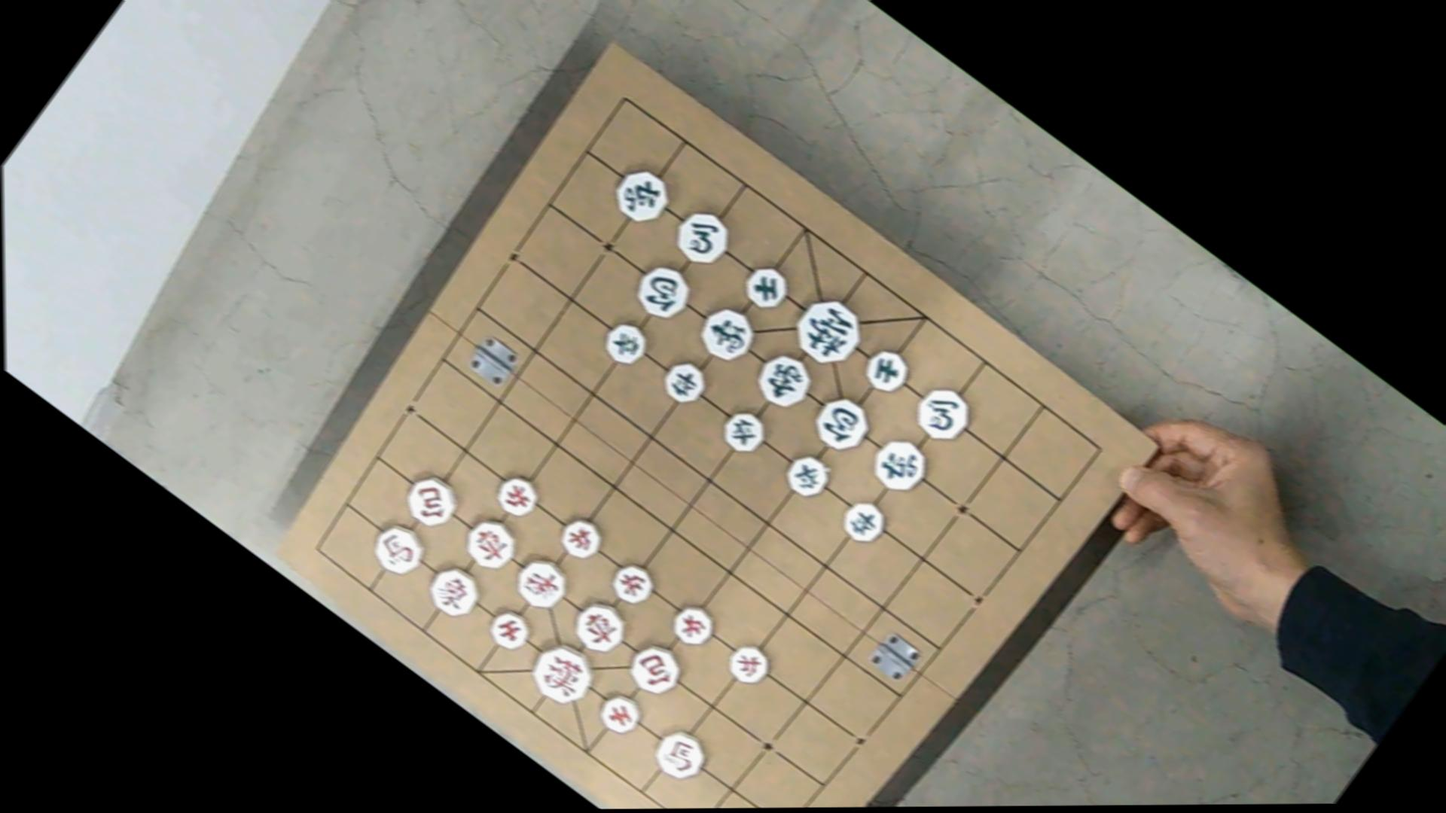cha_green: (865, 431, 935, 501), (609, 163, 678, 231)
cha_red: (458, 511, 524, 577), (567, 595, 633, 660)
jol_green: (836, 495, 892, 550), (597, 316, 653, 371), (657, 355, 712, 410), (780, 449, 835, 504), (716, 406, 771, 460)
jol_red: (490, 470, 545, 522), (722, 639, 776, 691), (606, 559, 660, 611), (555, 513, 609, 565), (667, 601, 719, 653)
ma_green: (908, 380, 977, 449), (669, 204, 737, 272)
ma_red: (648, 723, 713, 787), (366, 518, 432, 581)
po_green: (807, 389, 877, 460), (629, 258, 699, 327)
po_red: (398, 470, 465, 534), (623, 638, 689, 702)
sa_green: (738, 260, 795, 315), (858, 344, 914, 398)
sa_red: (592, 687, 647, 741), (483, 604, 535, 656)
sang_green: (691, 299, 763, 370), (748, 346, 820, 417)
sang_red: (508, 551, 575, 617), (422, 559, 487, 624)
wang_green: (785, 289, 871, 375)
wang_red: (523, 635, 603, 714)
